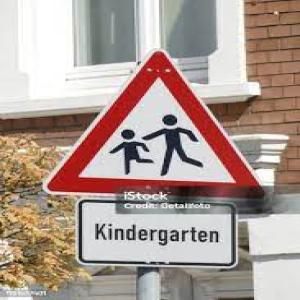SCHOOL CROSSING: (42, 48, 272, 202)
